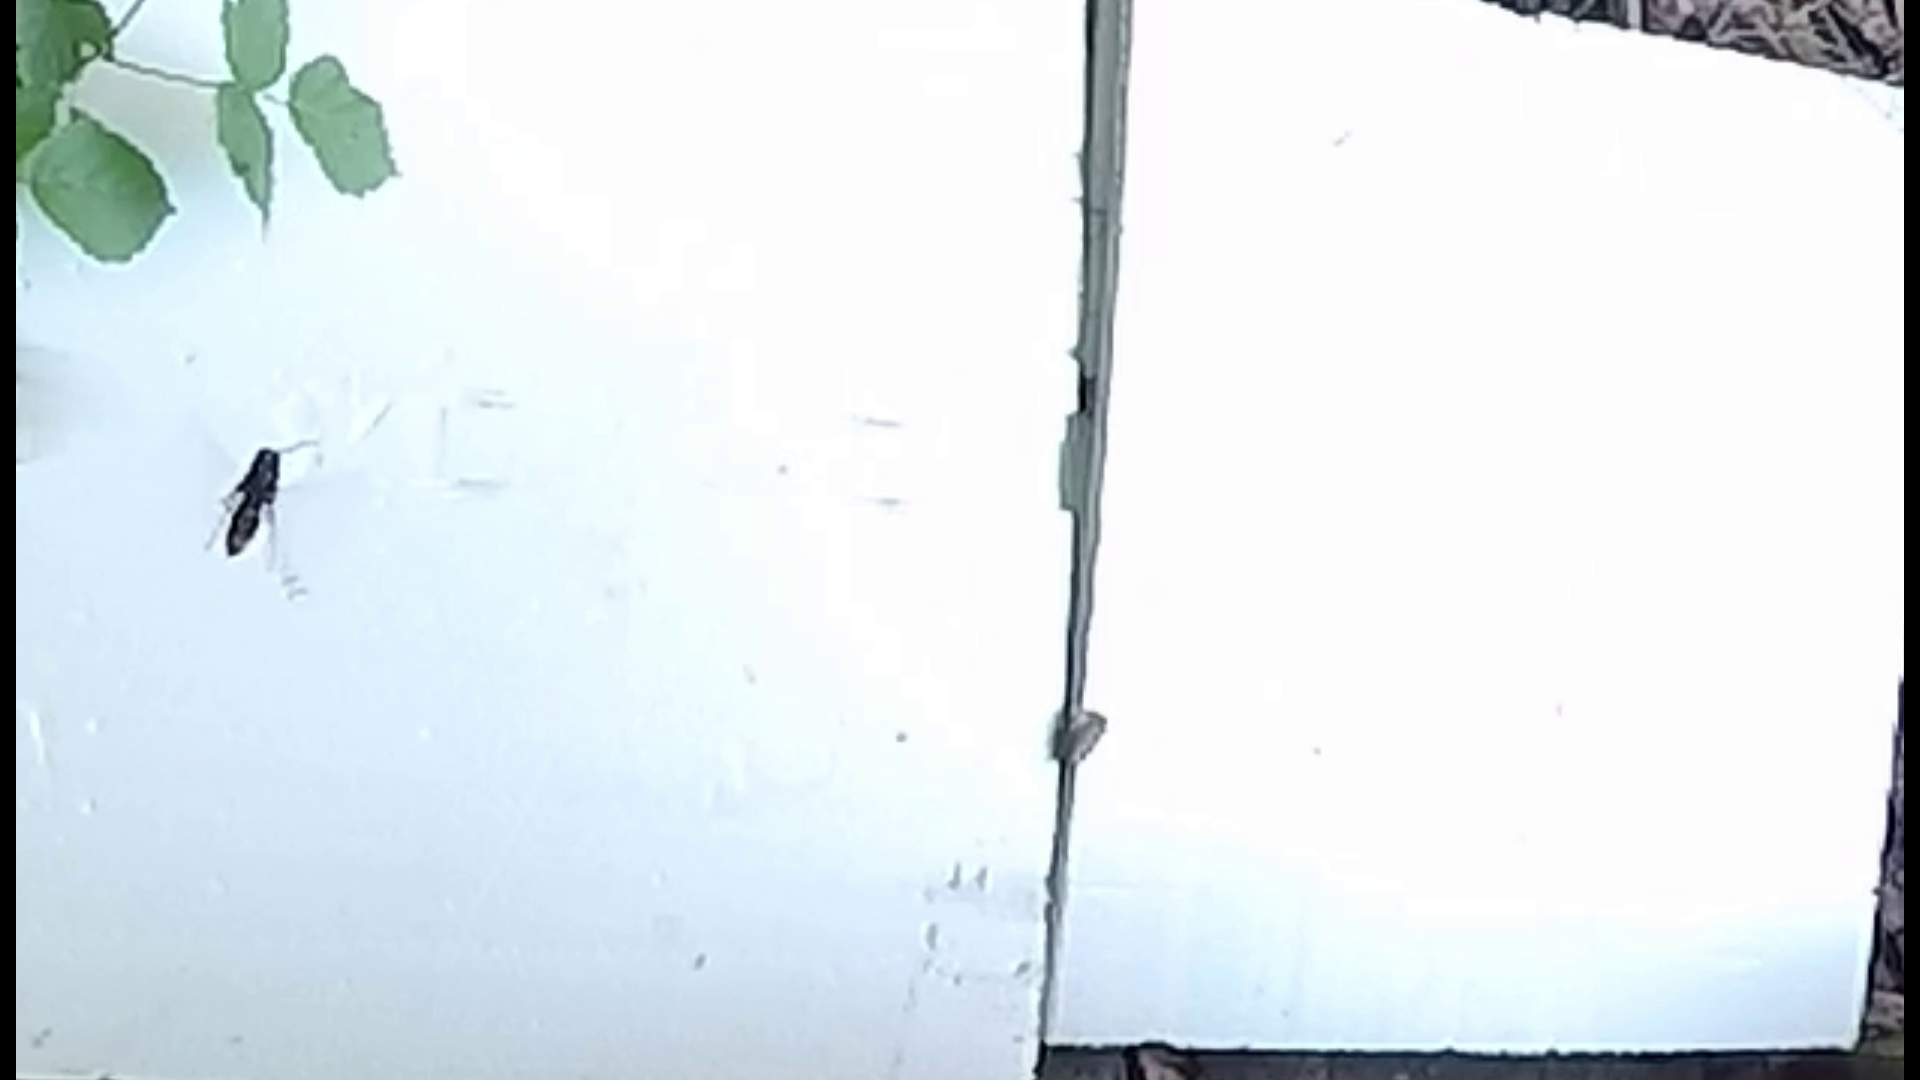Asian_hornets: (189, 422, 324, 589)
